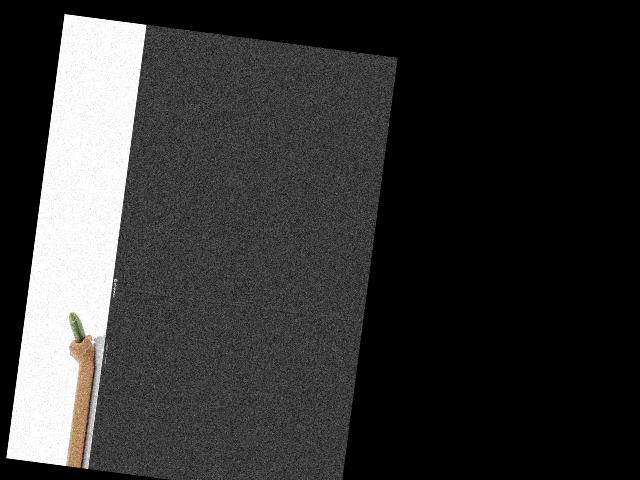cucumber: (65, 312, 88, 344)
